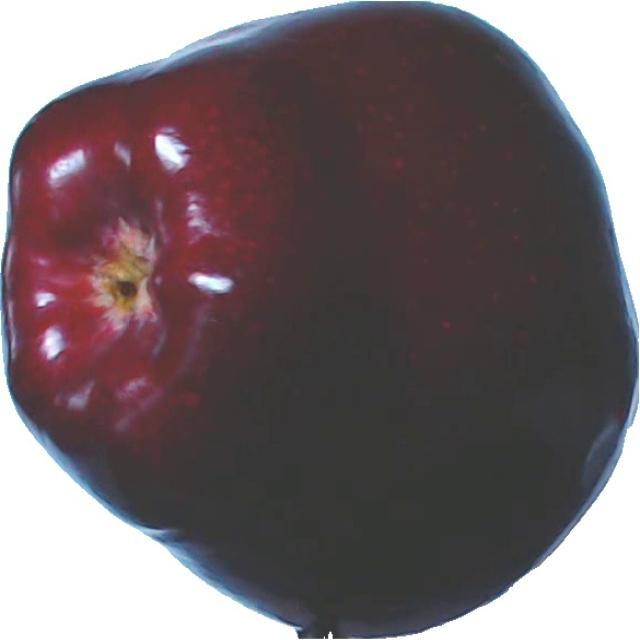Scartlet Spur Elma: (1, 0, 639, 636)
